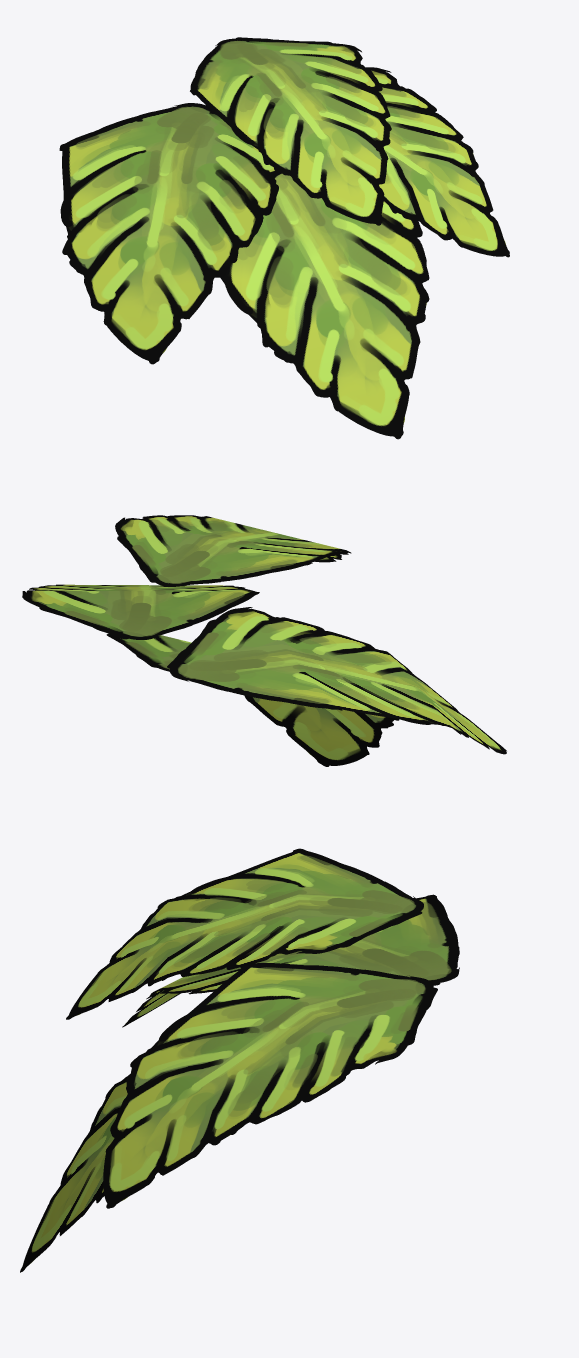
The model's file is ferns.fbx.
The picture shows the model from 3 angles, top to bottom: view 1: azimuth 30°, elevation 25°; view 2: azimuth 150°, elevation 25°; view 3: azimuth 270°, elevation 25°; orthographic projection. The views are drawn at different scales.
Parts seen in each view (by area): view 1: Plane.007; view 2: Plane.007; view 3: Plane.007.
Part boxes in pixels (x1,y1,x2,y2): Plane.007: (59, 37, 509, 439); Plane.007: (22, 515, 506, 766); Plane.007: (20, 848, 459, 1272).
Bounding box in the file's own units: 214 × 115 × 155.
